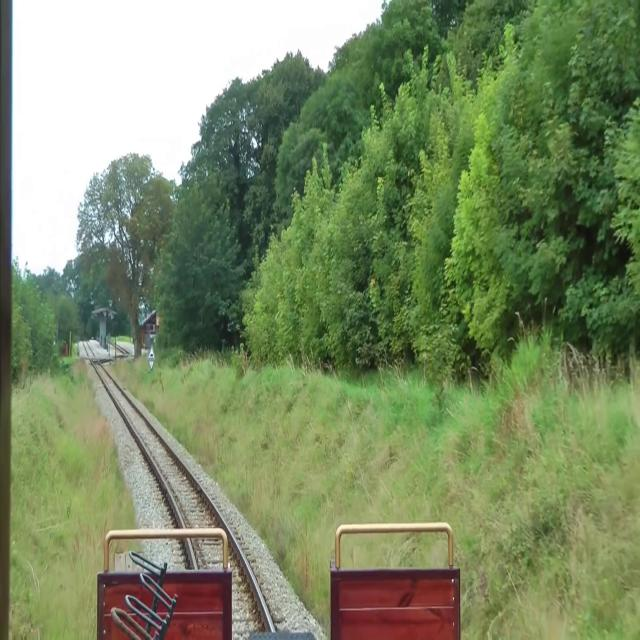rail-track: (88, 350, 208, 503), (242, 566, 258, 605)
